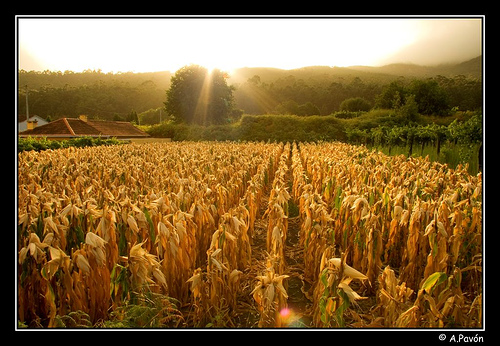corn: (15, 135, 481, 329)
